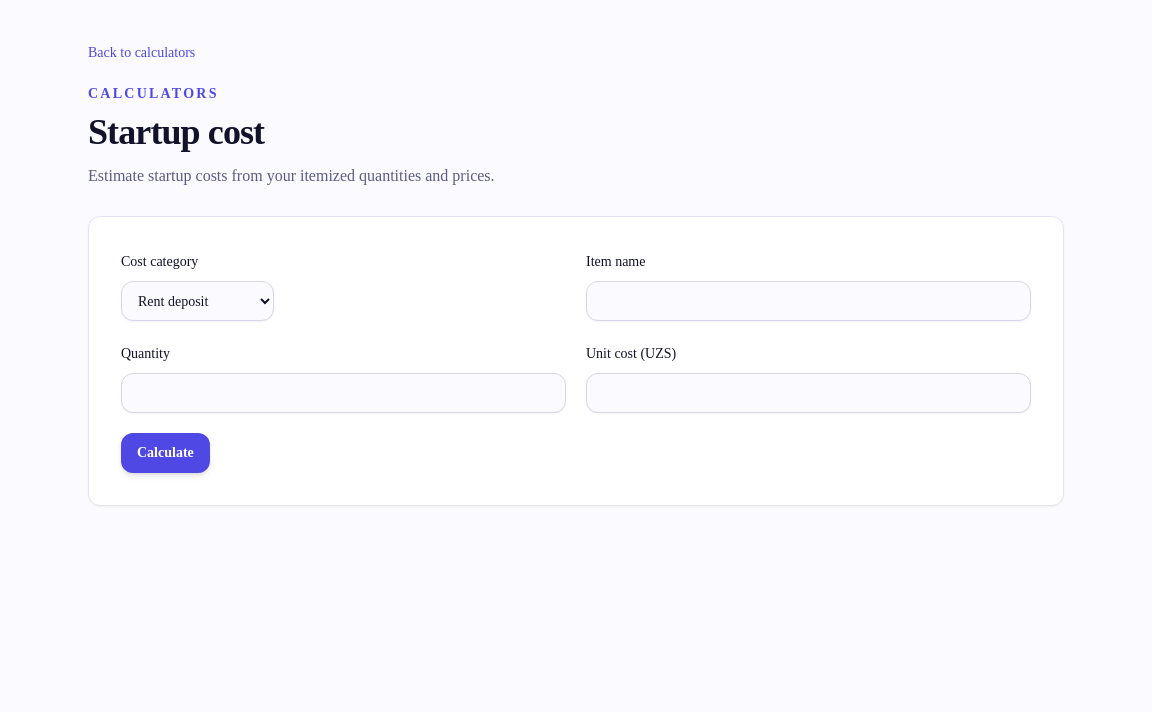
it: calculator workspace › calculates startup costs through the API and displays a chart
Type "Rent deposit" into the field labelled "Item name" at (808, 301), box [586,281,1031,321]
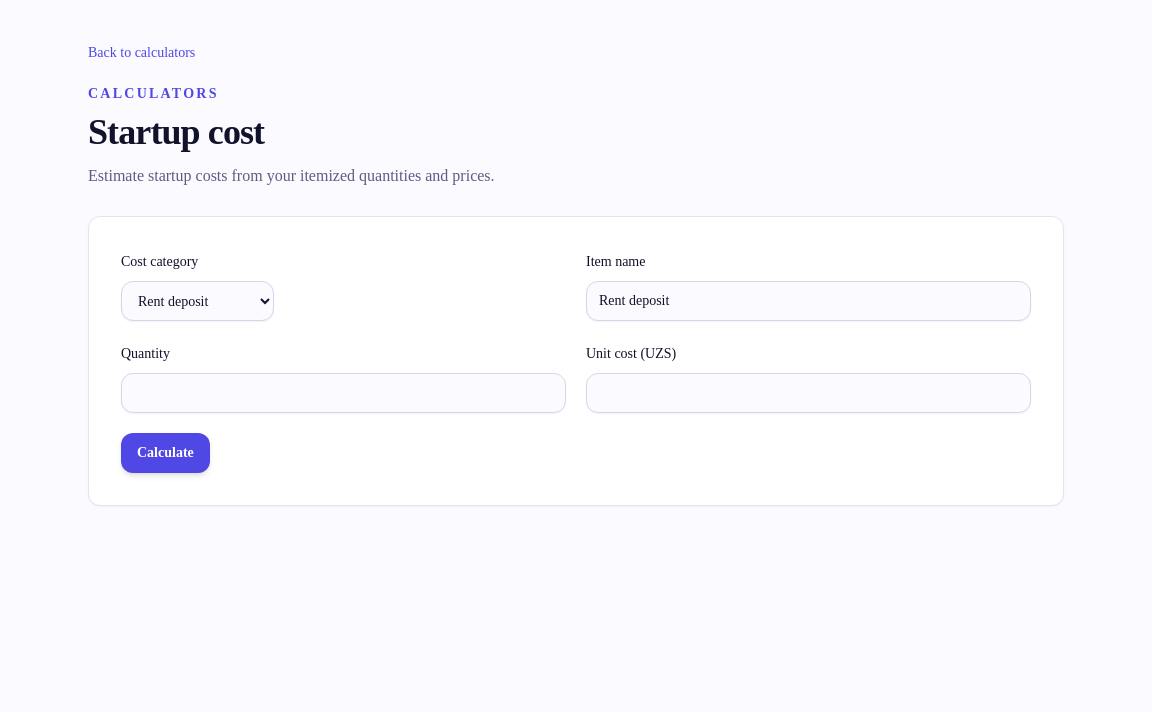
Type "1" into the number field labelled "Quantity" at (344, 393), box [121,373,566,413]
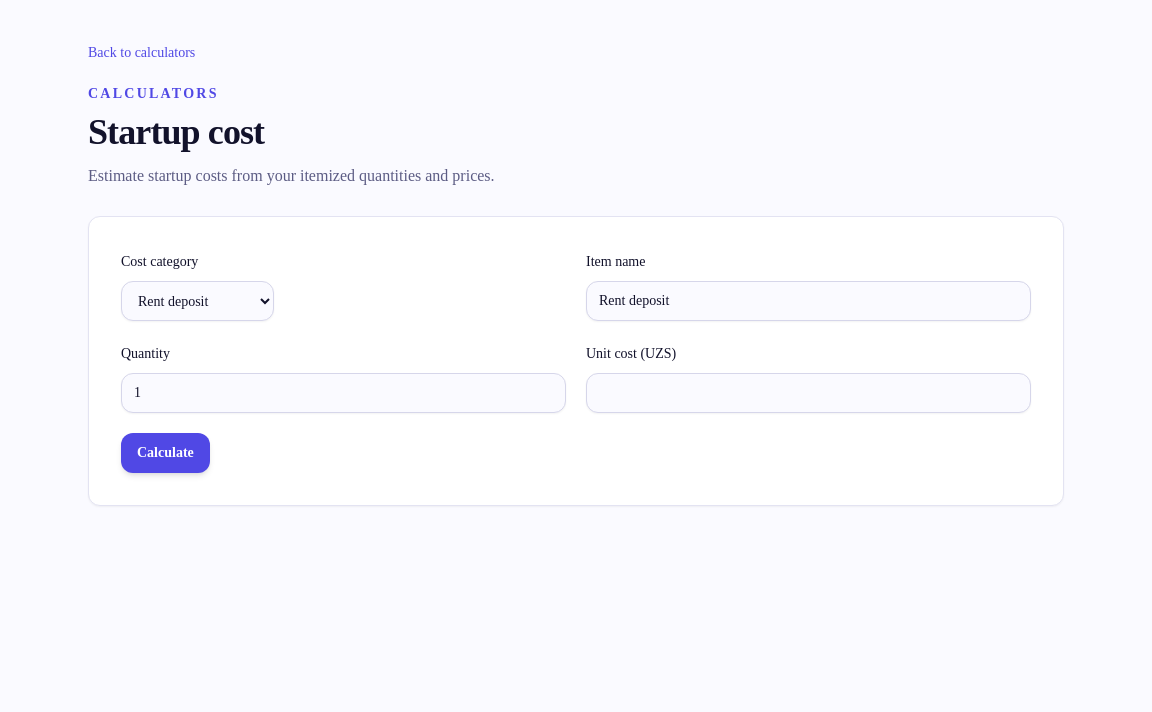
Type "1000" into the number field labelled "Unit cost (UZS)" at (808, 393), box [586,373,1031,413]
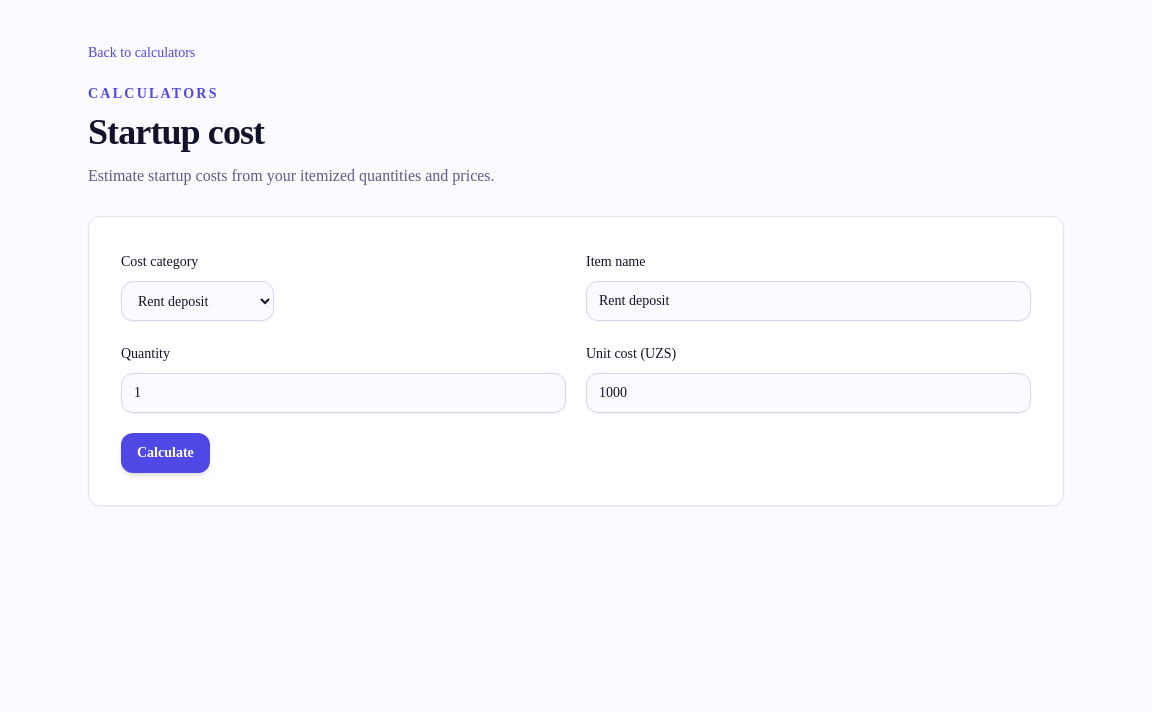
Click the button "Calculate" at (165, 453), box [121,433,210,473]
(page scrolled)
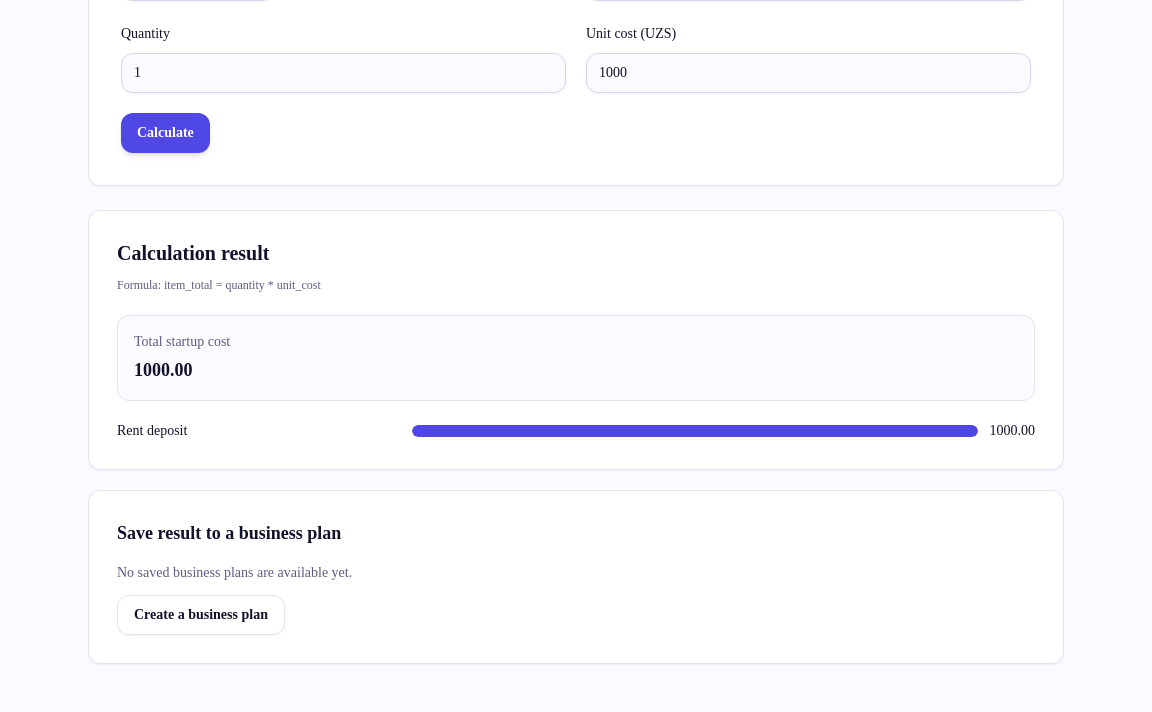
Check: the text "1000.00" below "Total startup cost" is shown, box [134,360,192,380]
Check: the picture named "Result chart" is shown, box [117,421,1035,441]
